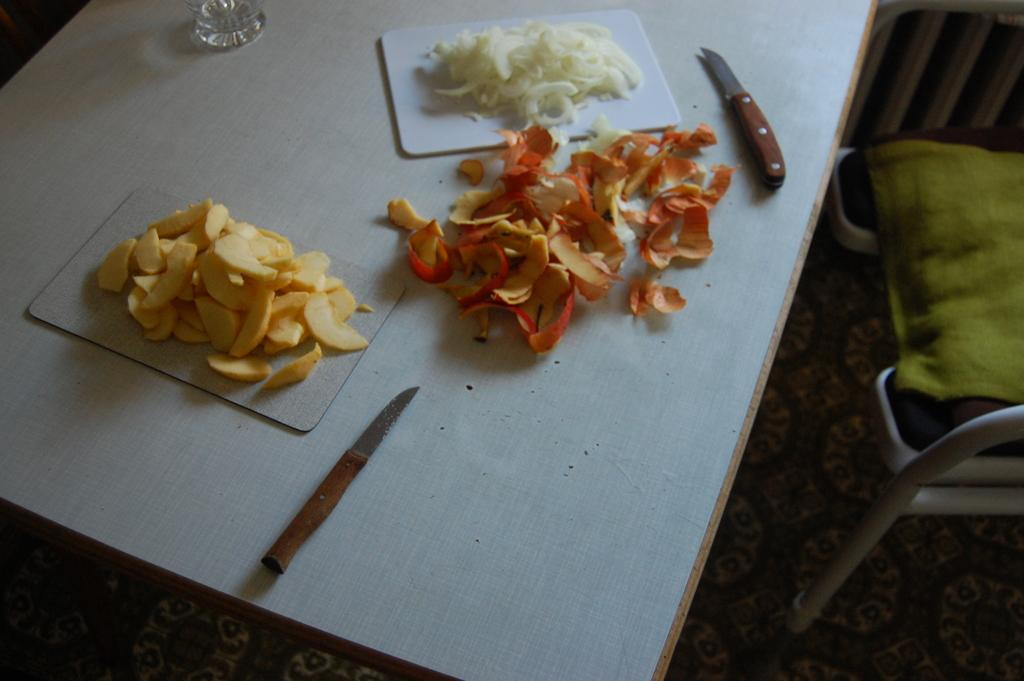knife: (268, 382, 420, 569), (703, 46, 781, 182)
